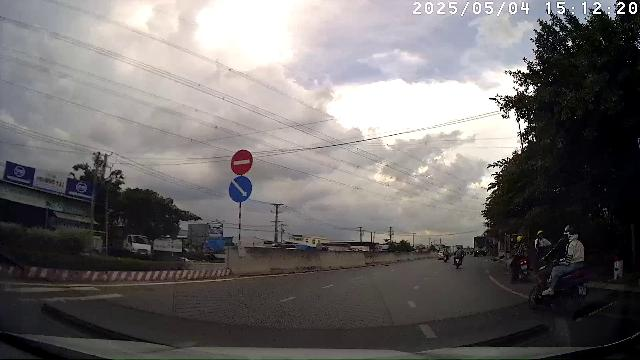102-cam-di-nguoc-chieu: (230, 149, 253, 175)
302a-huong-phai-di-vong-chuong-ngai-vat-1: (229, 175, 253, 202)
